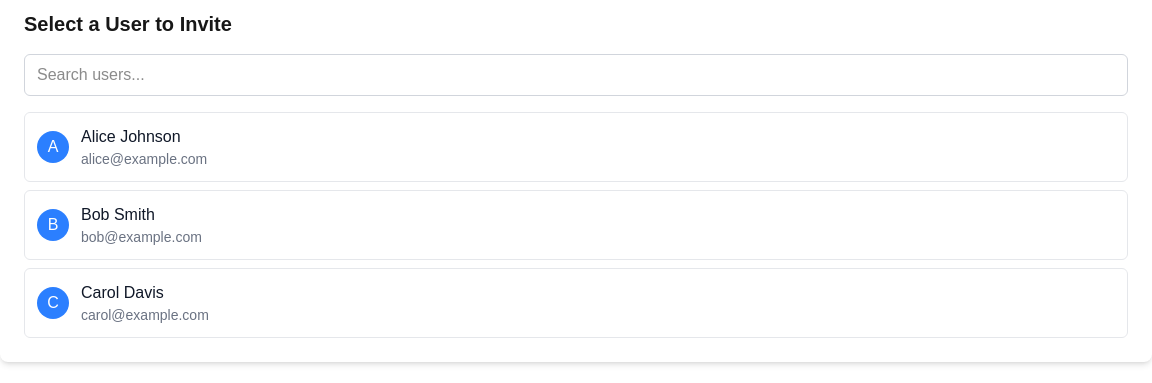
UserList Component › filters users based on search term
This screenshot has width=1152, height=383.
Check: the text "Alice Johnson" is shown, box [81,128,181,145]
Type "alice" into the field with placeholder "Search users..." at (576, 75), box [24,54,1128,96]
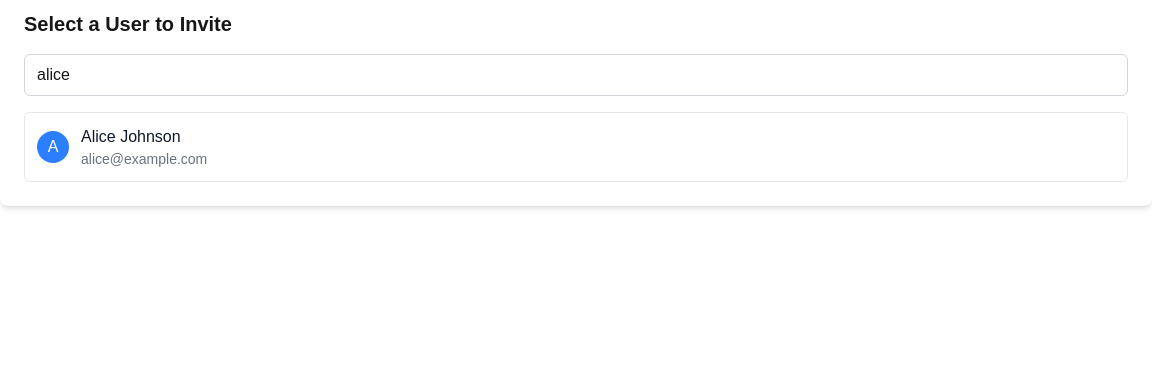
Check: the text "Alice Johnson" is shown, box [81,128,181,145]
Check: the text "Bob Smith" is gone
